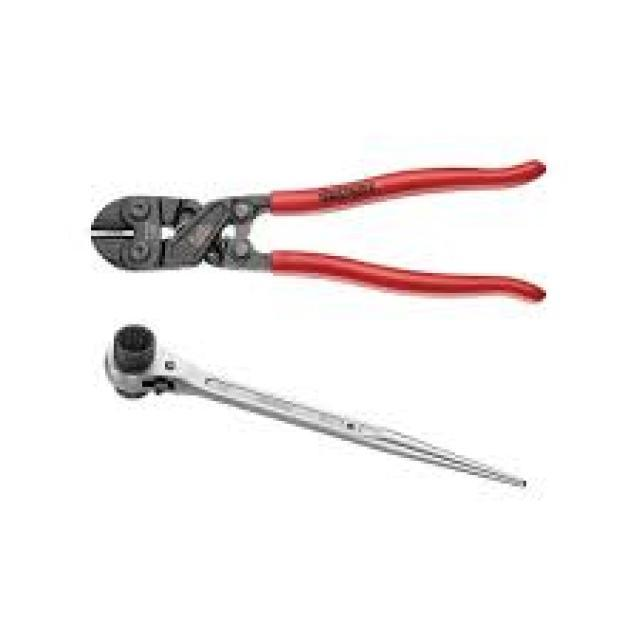wrench: (52, 144, 573, 309), (78, 317, 528, 504)
